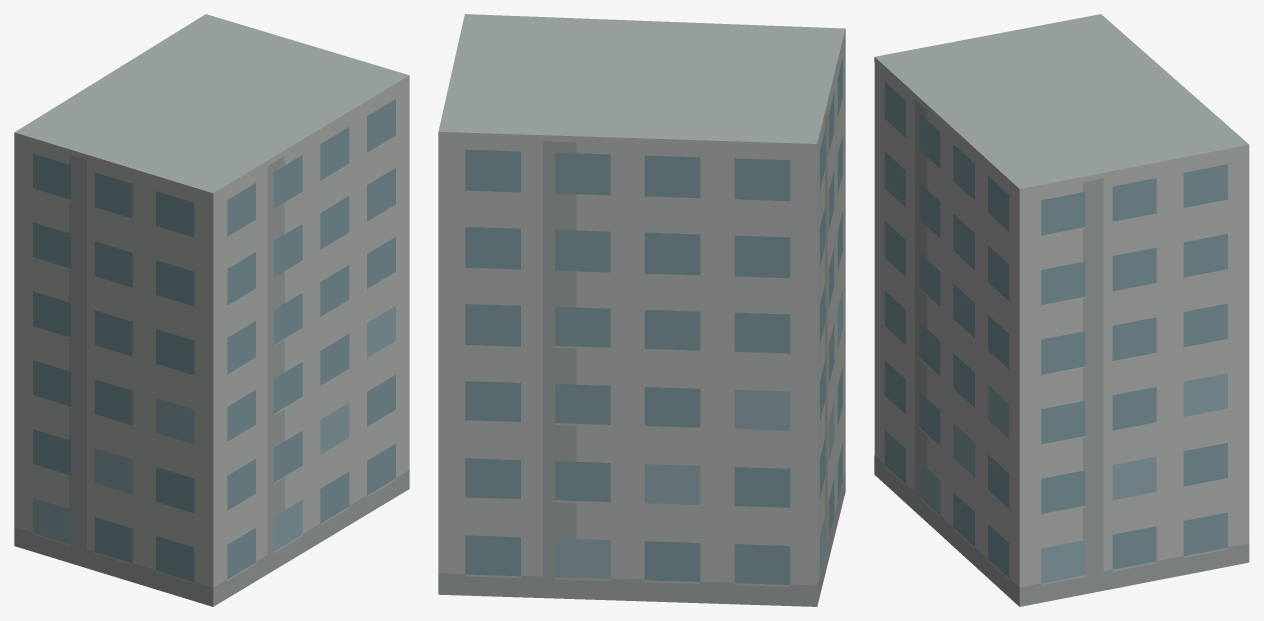
File: survey-upis-32702125.glb
3 renders of one model, left to right at view 1: azimuth 30°, elevation 25°; view 2: azimuth 150°, elevation 25°; view 3: azimuth 270°, elevation 25°, orthographic. The views are drawn at different scales.
Parts seen in each view (by area): view 1: survey-upis-32702125.tmp; view 2: survey-upis-32702125.tmp; view 3: survey-upis-32702125.tmp.
Part boxes in pixels (x1,y1,x2,y2): survey-upis-32702125.tmp: (14,14,409,606); survey-upis-32702125.tmp: (438,14,845,606); survey-upis-32702125.tmp: (874,14,1249,606).
Size of the model in its own units: 16.45 by 18.3 by 14.89.
